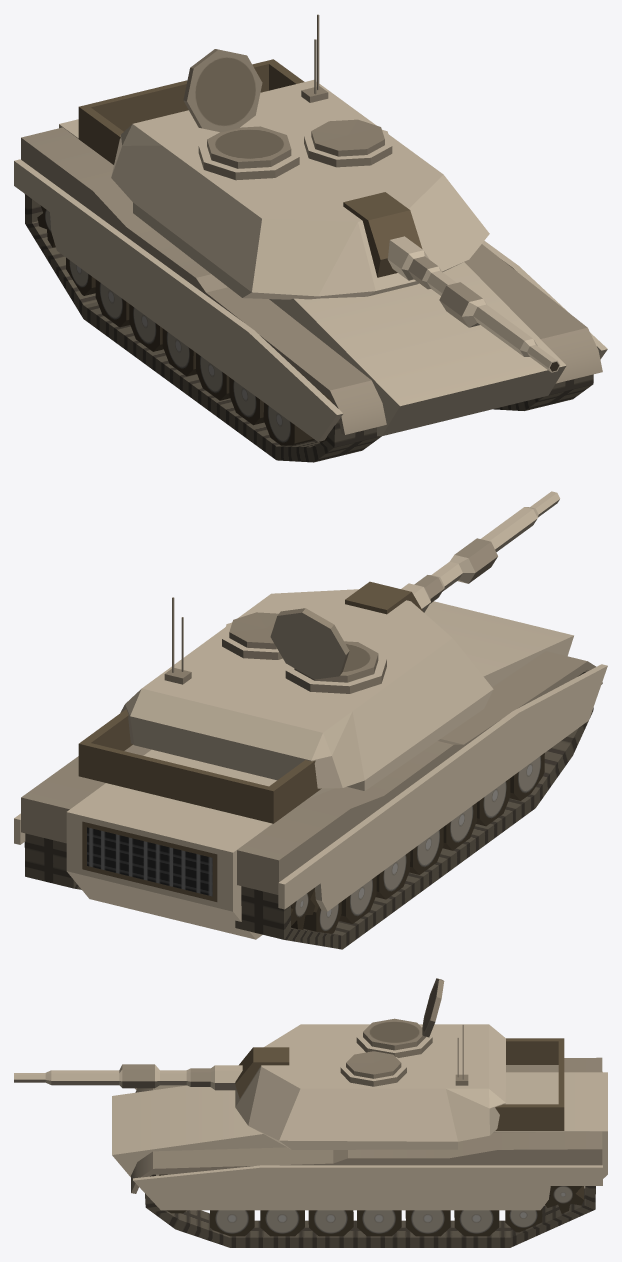
Rendered from TankA.fbx.
3 views of the same model, one above another, from view 1: azimuth 30°, elevation 25°; view 2: azimuth 150°, elevation 25°; view 3: azimuth 270°, elevation 25° (orthographic). The views are drawn at different scales.
Parts seen in each view (by area): view 1: TankA, TankATurret, WheelRB, WheelRC, WheelRG, WheelRD, WheelRE, WheelRF, WheelRH; view 2: TankA, TankATurret, WheelRG, WheelRF, WheelRC, WheelRD, WheelRE, WheelRB, WheelRH, WheelRI; view 3: TankA, TankATurret, WheelLG, WheelLD, WheelLF, WheelLC, WheelLE, WheelLB, WheelLI, WheelLH.
Part boxes in pixels (x1=…): TankA: x1=14, y1=119, x2=607, y2=462; TankATurret: x1=78, y1=14, x2=560, y2=372; WheelRB: x1=263, y1=402, x2=314, y2=445; WheelRC: x1=229, y1=377, x2=264, y2=425; WheelRG: x1=95, y1=279, x2=129, y2=327; WheelRD: x1=196, y1=353, x2=229, y2=400; WheelRE: x1=162, y1=328, x2=196, y2=376; WheelRF: x1=129, y1=304, x2=163, y2=351; WheelRH: x1=66, y1=257, x2=95, y2=295; TankA: x1=14, y1=601, x2=607, y2=949; TankATurret: x1=78, y1=491, x2=560, y2=823; WheelRG: x1=339, y1=876, x2=376, y2=923; WheelRF: x1=376, y1=851, x2=410, y2=899; WheelRC: x1=476, y1=778, x2=510, y2=826; WheelRD: x1=443, y1=802, x2=476, y2=850; WheelRE: x1=409, y1=827, x2=443, y2=874; WheelRB: x1=510, y1=753, x2=544, y2=800; WheelRH: x1=303, y1=889, x2=341, y2=933; WheelRI: x1=291, y1=888, x2=315, y2=929; TankA: x1=112, y1=1057, x2=607, y2=1247; TankATurret: x1=14, y1=978, x2=564, y2=1149; WheelLG: x1=454, y1=1210, x2=499, y2=1236; WheelLD: x1=308, y1=1210, x2=353, y2=1236; WheelLF: x1=405, y1=1210, x2=450, y2=1236; WheelLC: x1=260, y1=1210, x2=304, y2=1236; WheelLE: x1=357, y1=1210, x2=401, y2=1236; WheelLB: x1=210, y1=1210, x2=254, y2=1236; WheelLI: x1=545, y1=1186, x2=583, y2=1213; WheelLH: x1=505, y1=1208, x2=542, y2=1232.
Bounding box in the file's own units: 270 × 271 × 706.
